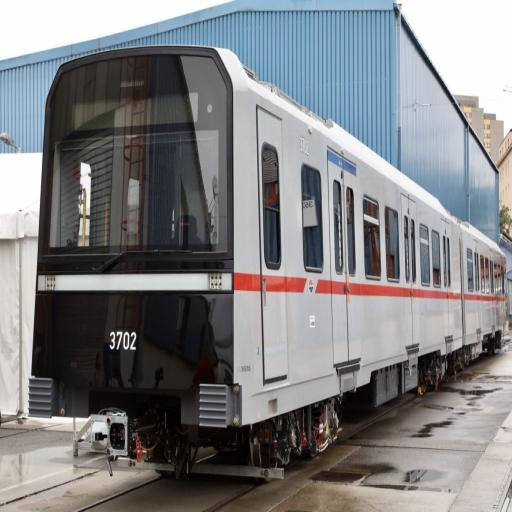X-Wagen: (26, 44, 507, 426)
